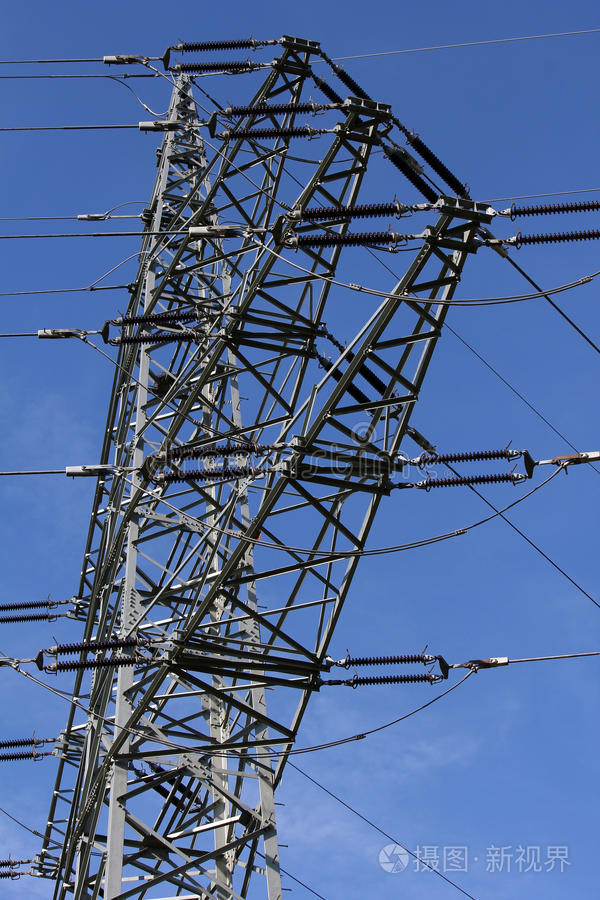insulator: (384, 132, 470, 204), (290, 198, 397, 252), (421, 441, 523, 497), (508, 196, 600, 249), (224, 94, 317, 142), (153, 442, 269, 480), (51, 634, 142, 676), (114, 304, 194, 349), (350, 650, 432, 693), (170, 35, 258, 75), (313, 64, 376, 104), (1, 593, 51, 632), (1, 734, 38, 766)
